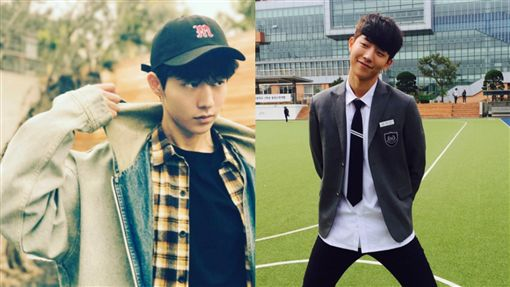people: (108, 20, 255, 287), (310, 16, 438, 287)
